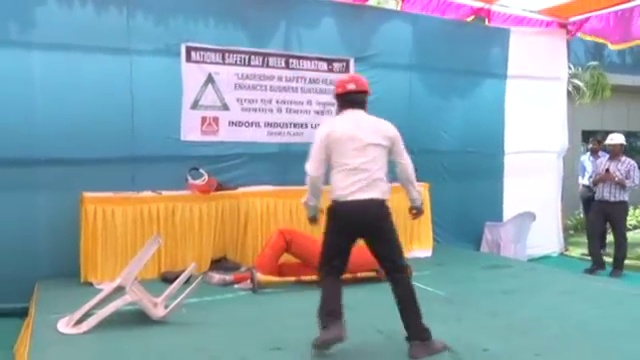helmet: (332, 72, 372, 96), (603, 130, 628, 148)
helmet_off: (585, 134, 601, 154)
helmet_on: (329, 71, 373, 113), (602, 130, 628, 158)
person: (304, 72, 456, 360), (214, 227, 389, 289), (588, 130, 640, 280), (578, 133, 610, 213)
